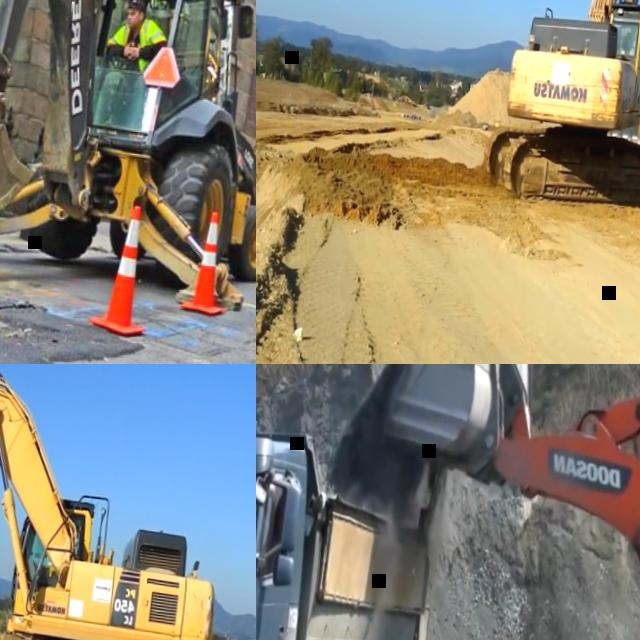NO-Hardhat: (128, 0, 148, 9)
NO-Mask: (127, 13, 141, 28)
Person: (105, 0, 171, 69), (620, 31, 637, 55), (250, 137, 256, 180)
Safety Cone: (90, 204, 155, 338), (181, 209, 234, 315)
Safety Vest: (114, 15, 159, 71), (622, 43, 635, 53)
machinery: (0, 0, 256, 313), (351, 364, 640, 640), (0, 364, 244, 640), (256, 389, 447, 640), (480, 0, 640, 216)
